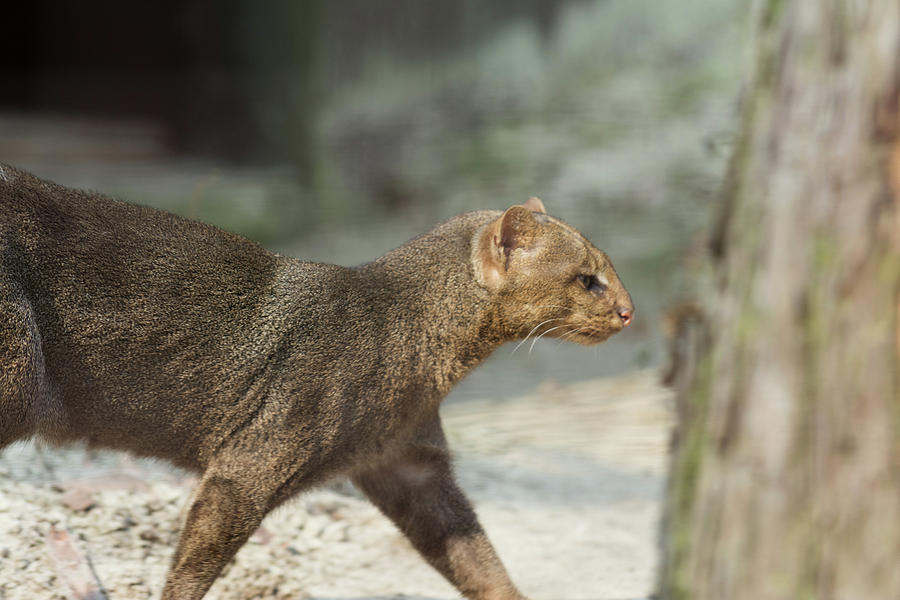Jaguarundi: (6, 146, 645, 585)
